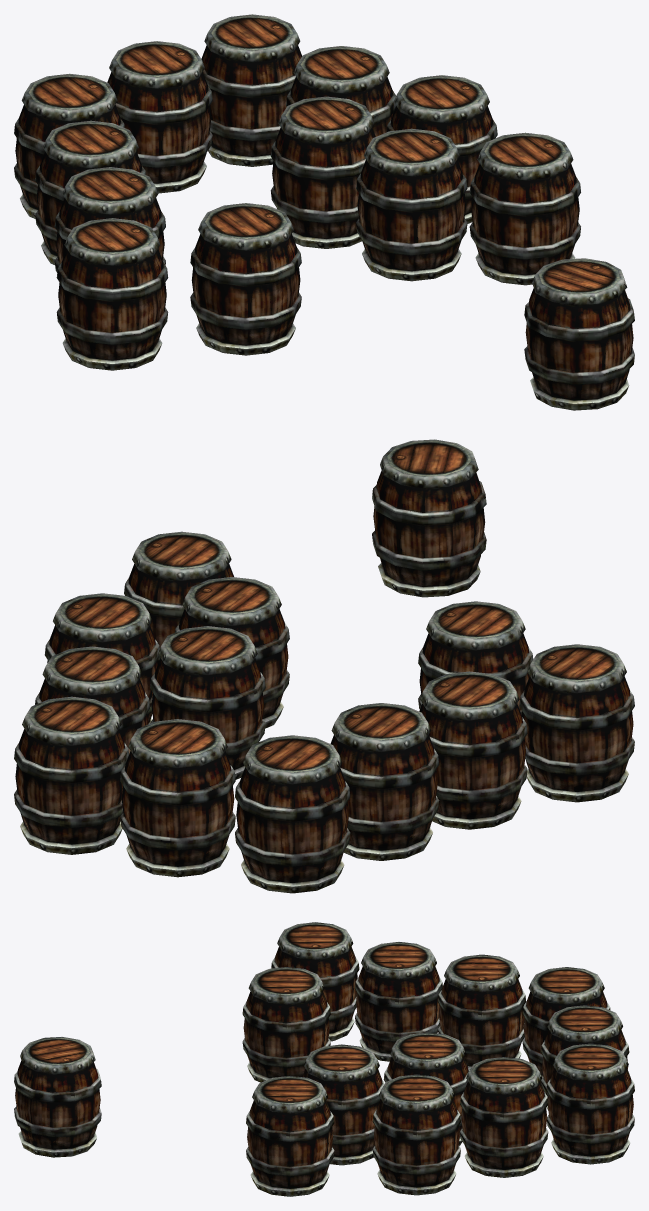
Rendered from PUSH2_BARRELS.fbx.
The picture shows the model from 3 angles, top to bottom: view 1: azimuth 30°, elevation 25°; view 2: azimuth 150°, elevation 25°; view 3: azimuth 270°, elevation 25°; orthographic projection. The views are drawn at different scales.
Parts seen in each view (by area): view 1: PUSH2_BARRELS; view 2: PUSH2_BARRELS; view 3: PUSH2_BARRELS.
Part boxes in pixels (x1=…): PUSH2_BARRELS: x1=14, y1=14, x2=634, y2=410; PUSH2_BARRELS: x1=14, y1=439, x2=634, y2=893; PUSH2_BARRELS: x1=14, y1=922, x2=634, y2=1196.
Bounding box in the file's own units: 40273 × 9241 × 55324.
Materials: 2 (2 with a texture image).
